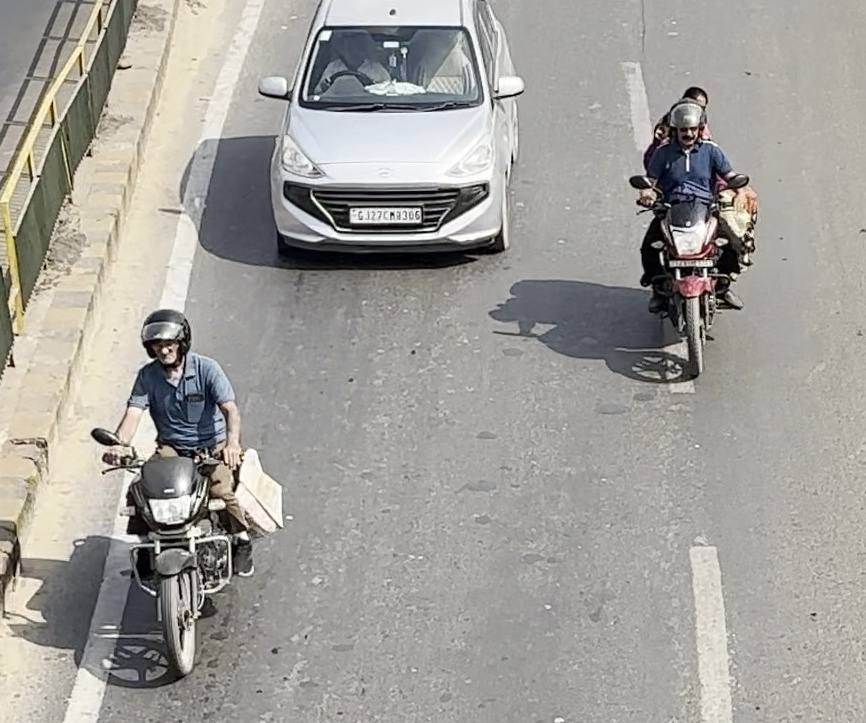BikeWithRider: (88, 305, 290, 682), (619, 83, 761, 382)
Helmet: (138, 308, 195, 372), (662, 101, 710, 154)
NoHelmet: (678, 84, 714, 109)
